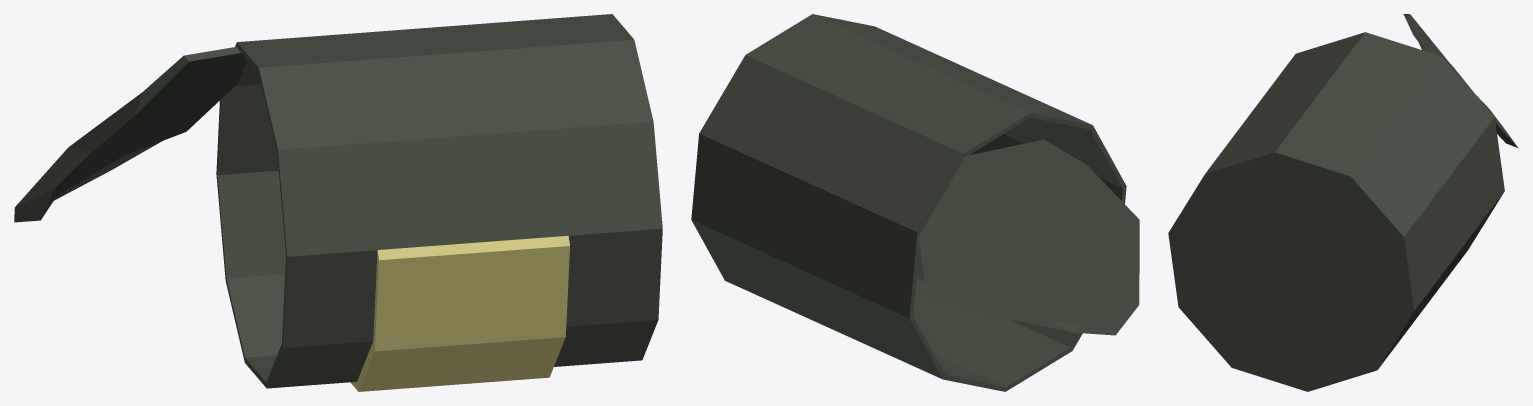
File: PURKKI2.fbx
The picture shows the model from 3 angles, left to right: view 1: azimuth 30°, elevation 25°; view 2: azimuth 150°, elevation 25°; view 3: azimuth 270°, elevation 25°; orthographic projection. The views are drawn at different scales.
Parts seen in each view (by area): view 1: TELTTAA.005; view 2: TELTTAA.005; view 3: TELTTAA.005.
Part boxes in pixels (bbox=[...]): TELTTAA.005: bbox=[14, 14, 662, 391]; TELTTAA.005: bbox=[691, 14, 1139, 391]; TELTTAA.005: bbox=[1168, 14, 1518, 391].
Size of the model in its own units: 81.03 by 45.69 by 59.01.
